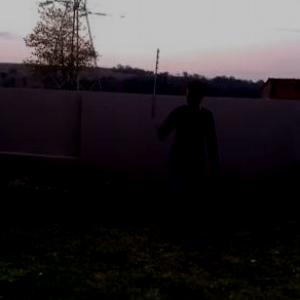takeoff-hand: (146, 110, 171, 142)
